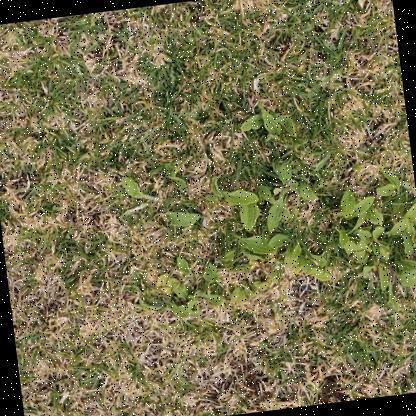Weeds: (113, 85, 415, 344)
